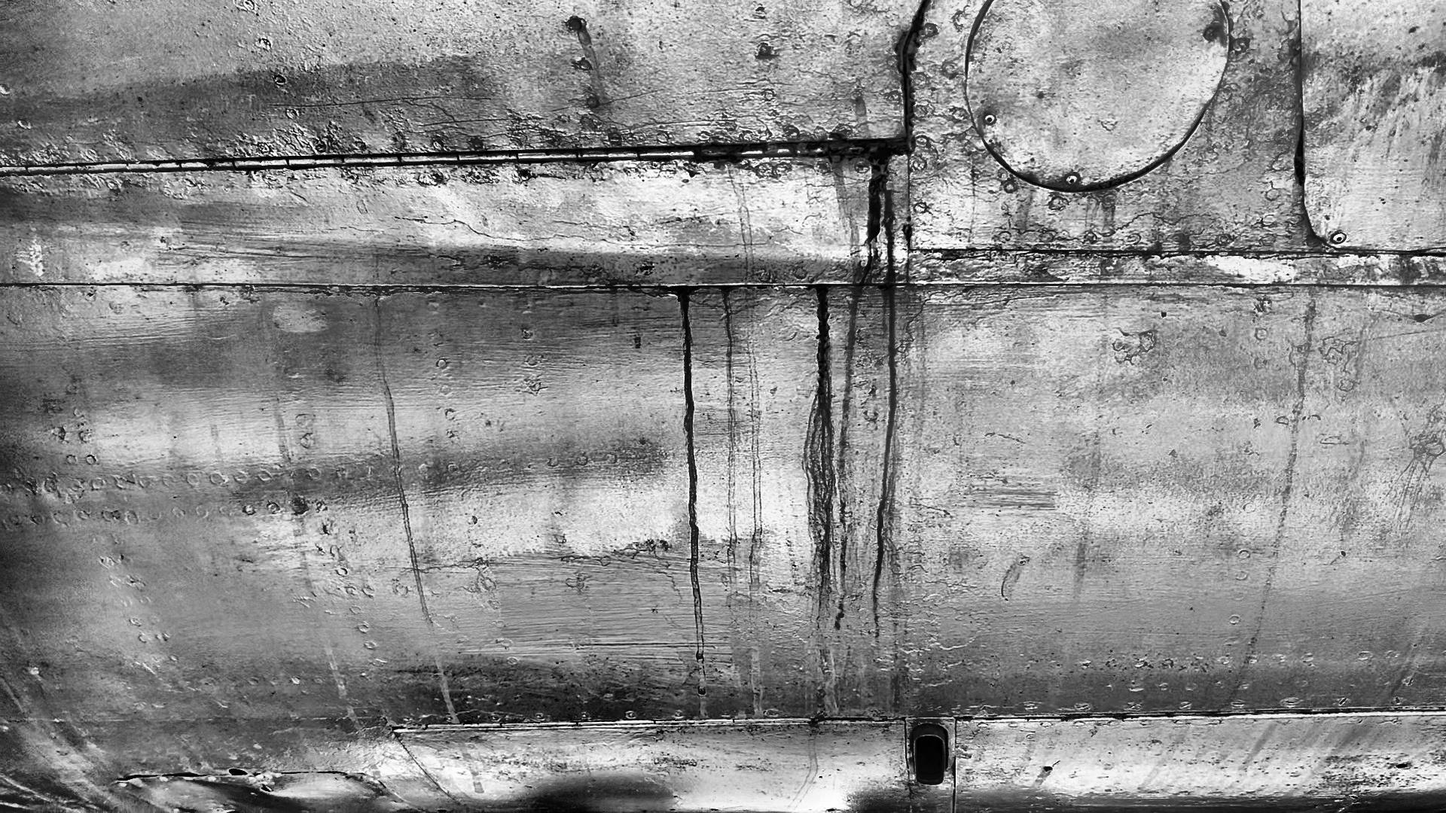crack: (866, 149, 894, 239)
dent: (264, 772, 371, 800)
